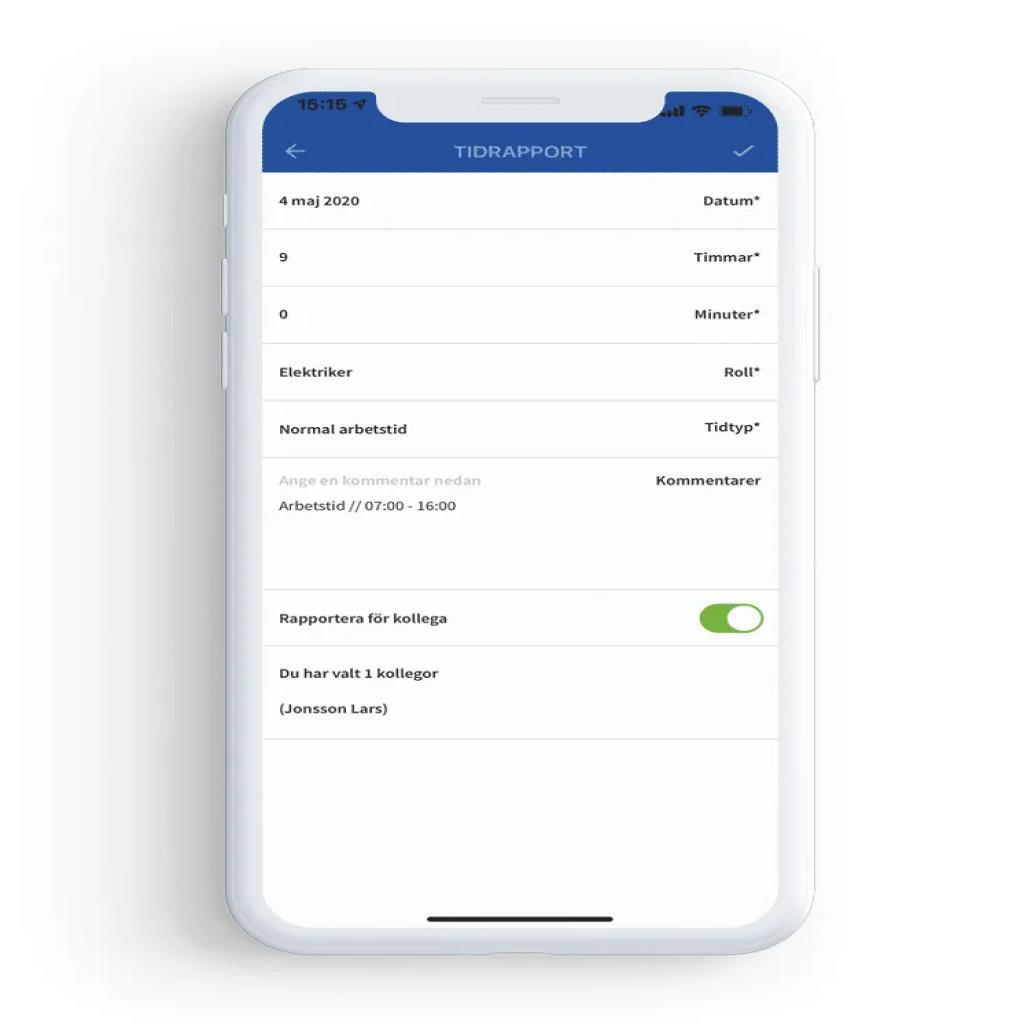icon: (732, 140, 755, 162), (281, 141, 306, 160)
label: (282, 611, 451, 631)
switch: (694, 599, 769, 640)
